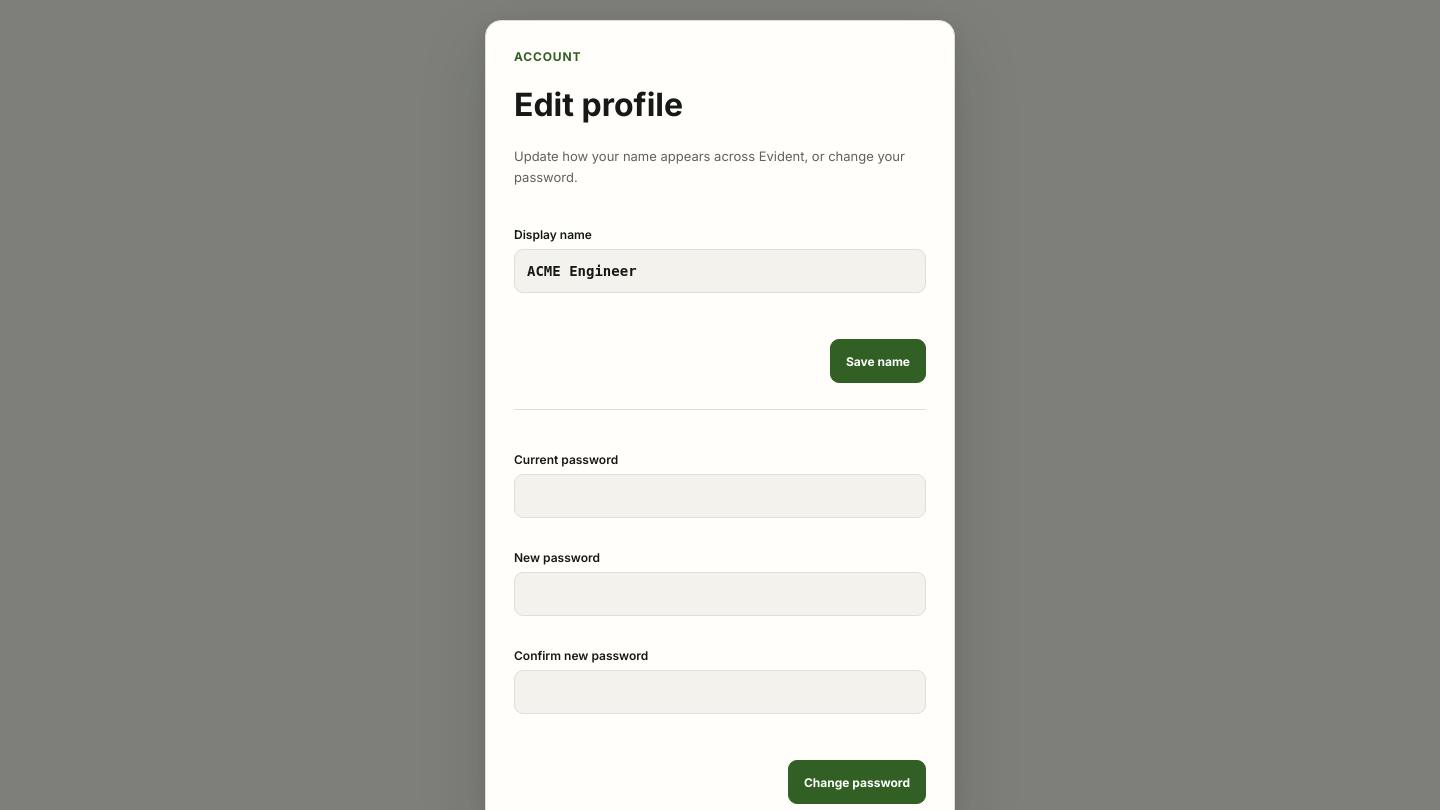
Test: ProfileDialog › saves a new display name and shows confirmation
Replace the text in the field labelled "Display name" with "New Name". click: (720, 272)
box: [514, 250, 926, 294]
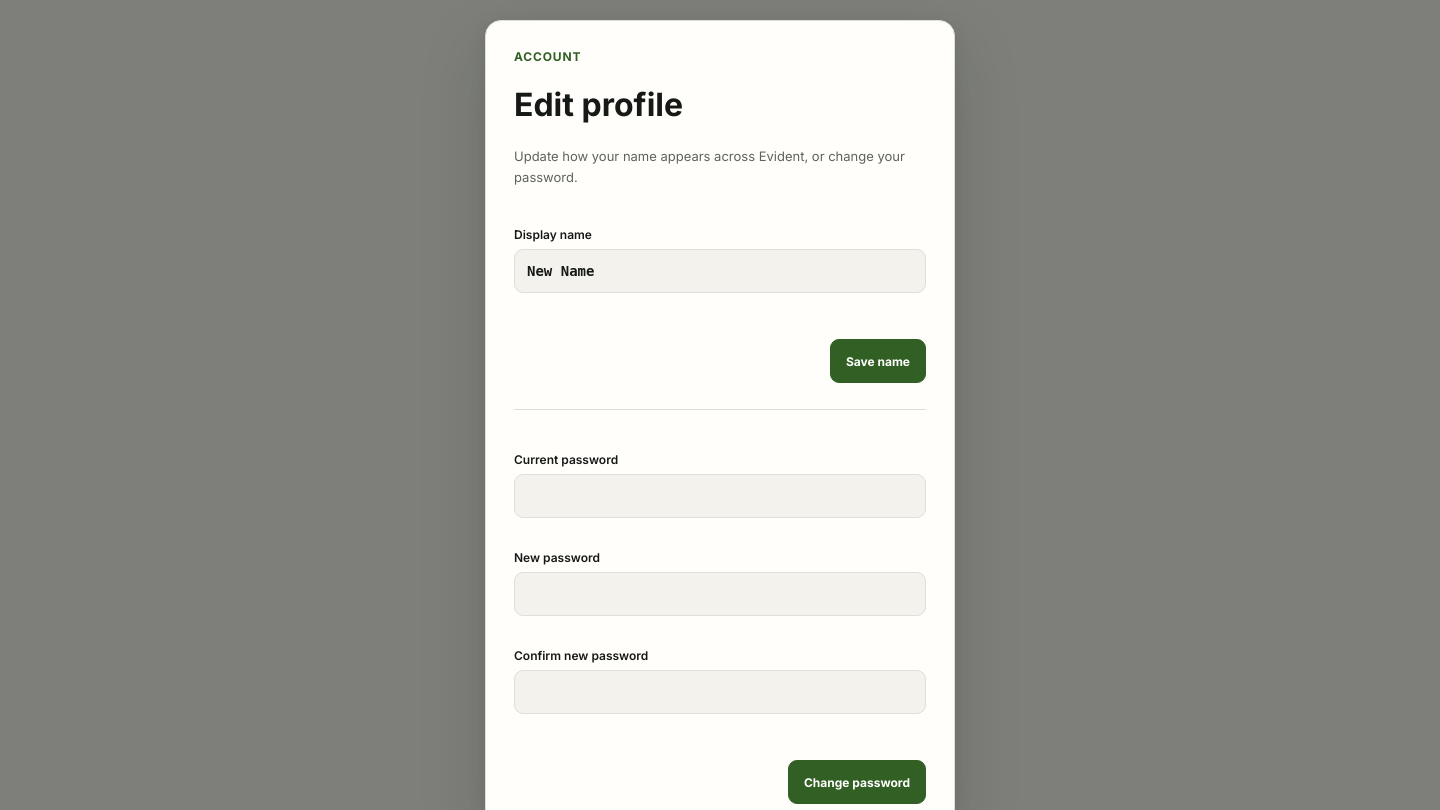
Submit the form "Display name Save name", box [514, 212, 926, 384]
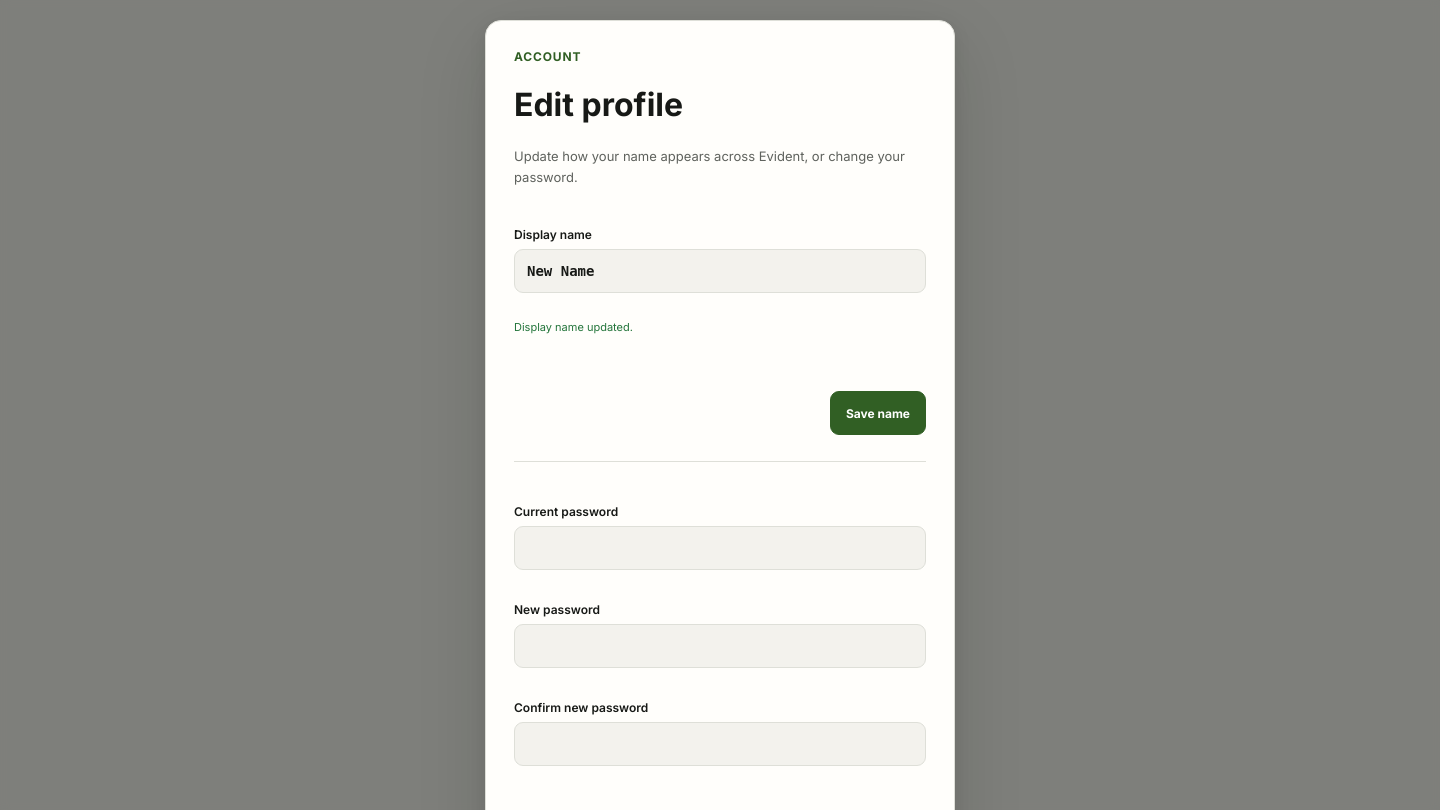
Result: the text "Display name updated." is shown at [514, 320, 633, 334]
